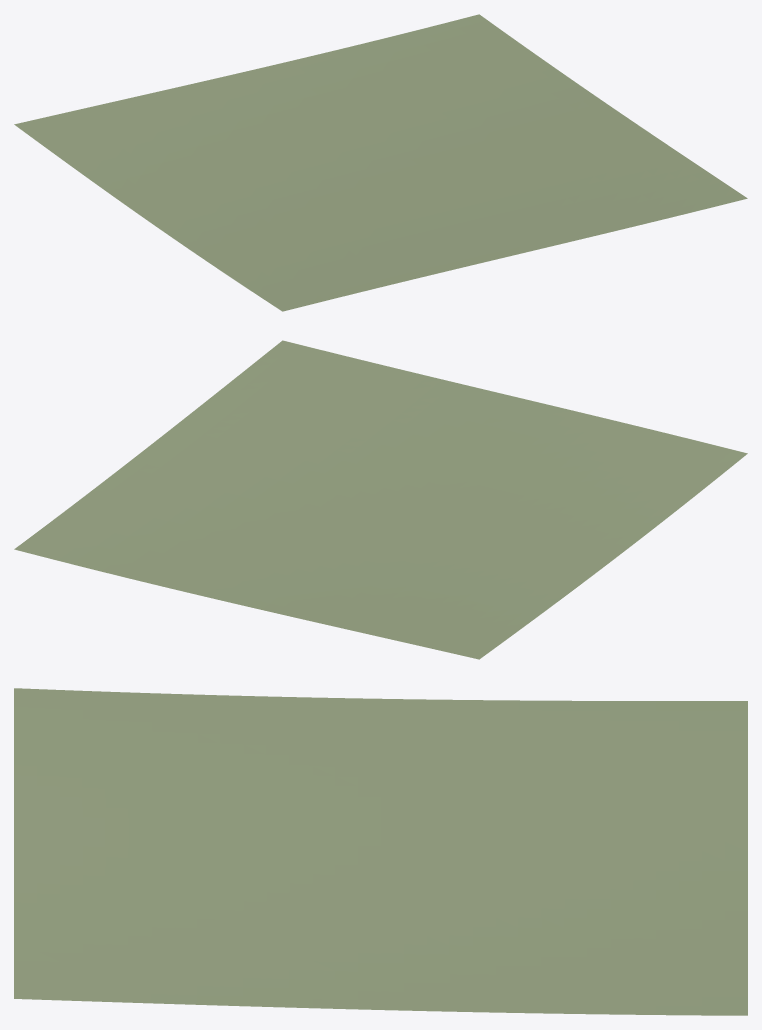
File: expanse-17-13.glb
3 views of the same model, one above another, from view 1: azimuth 30°, elevation 25°; view 2: azimuth 150°, elevation 25°; view 3: azimuth 270°, elevation 25° (orthographic). The views are drawn at different scales.
Visible parts, largest first — view 1: expanse-17-13; view 2: expanse-17-13; view 3: expanse-17-13.
Boxes of the visible parts, box(x1,y1,x2,y2) form: expanse-17-13: box(14, 14, 747, 311); expanse-17-13: box(14, 340, 747, 659); expanse-17-13: box(14, 688, 747, 1015).
Bounding box in the file's own units: 256 × 7.45 × 256.
